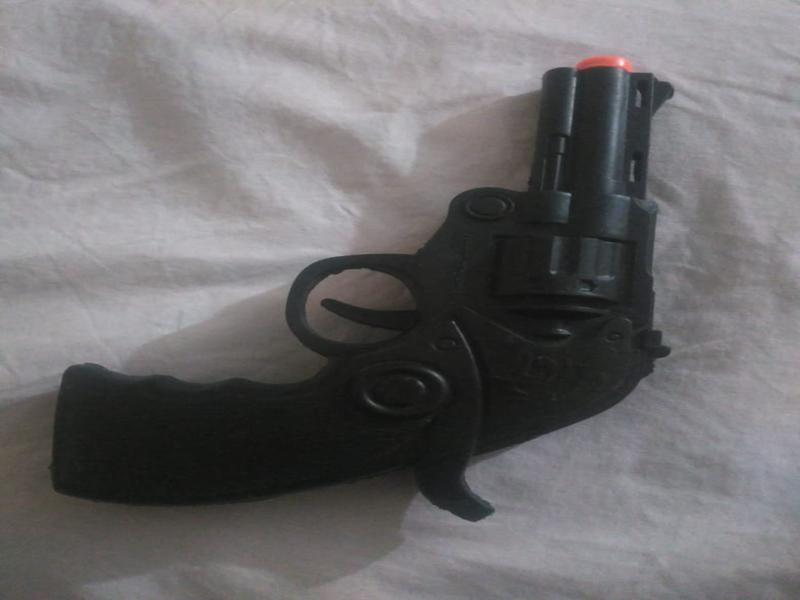gun: (44, 45, 694, 523)
